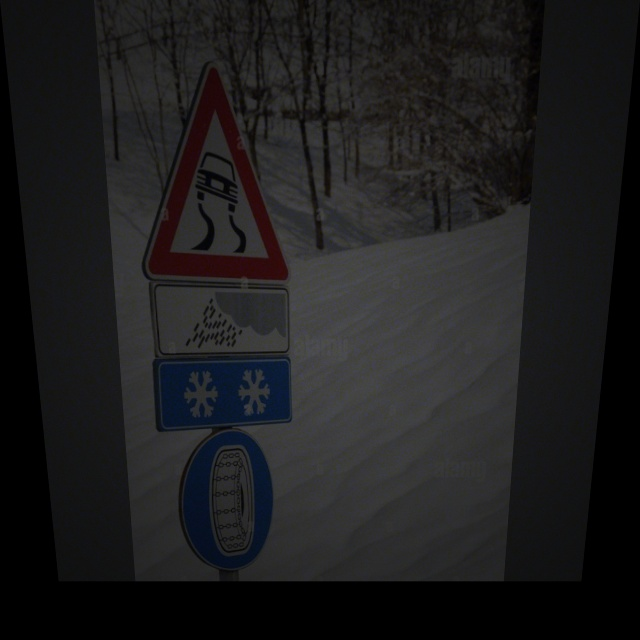Slippery_Road: (142, 60, 293, 284)
